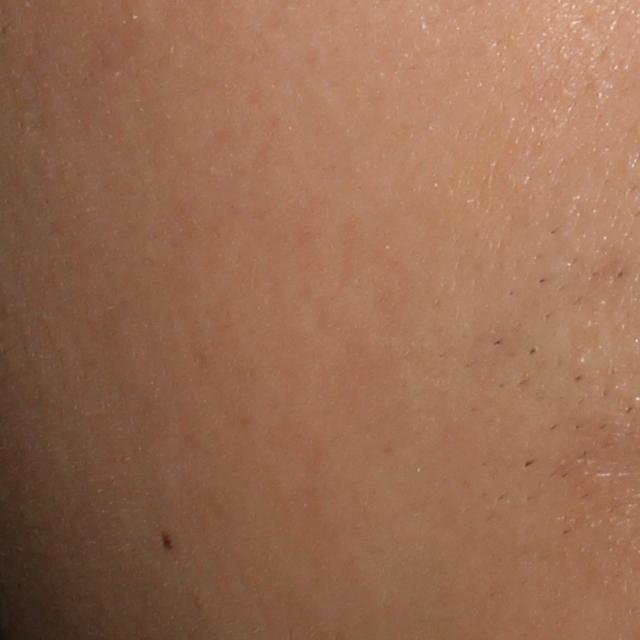nevus: (160, 529, 176, 552)
